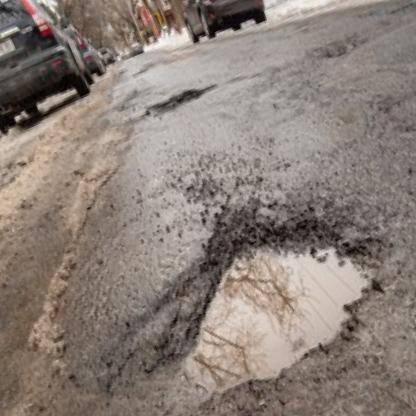pothole: (109, 155, 416, 416), (144, 76, 221, 121)
